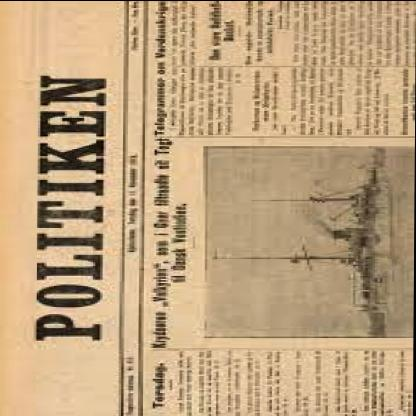Paper: (5, 0, 415, 411)
